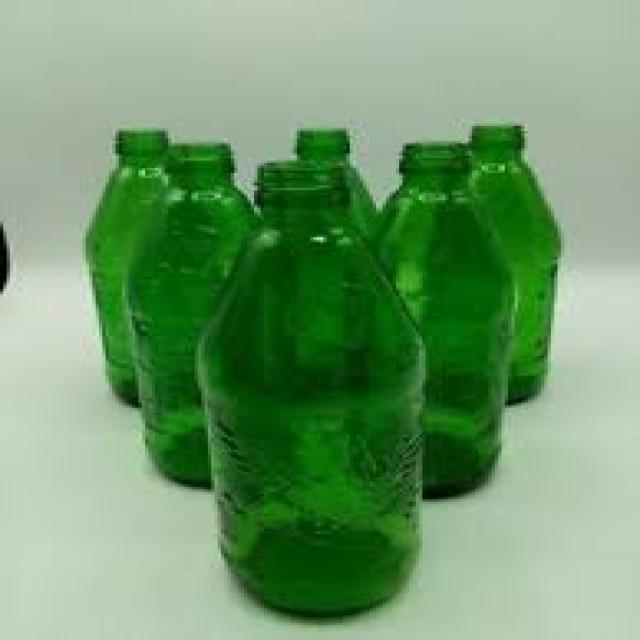Glass-Bottle: (197, 167, 423, 620), (383, 140, 519, 493), (148, 134, 268, 482), (470, 114, 570, 404), (73, 127, 174, 407)
